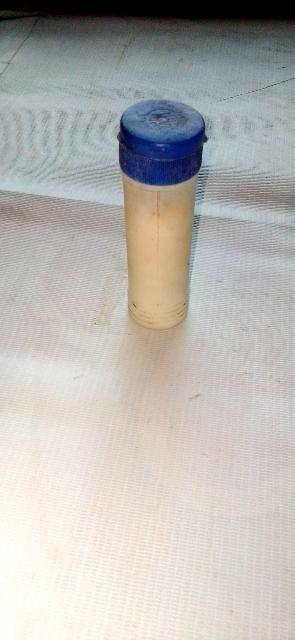hardplastic: (93, 94, 257, 349)
